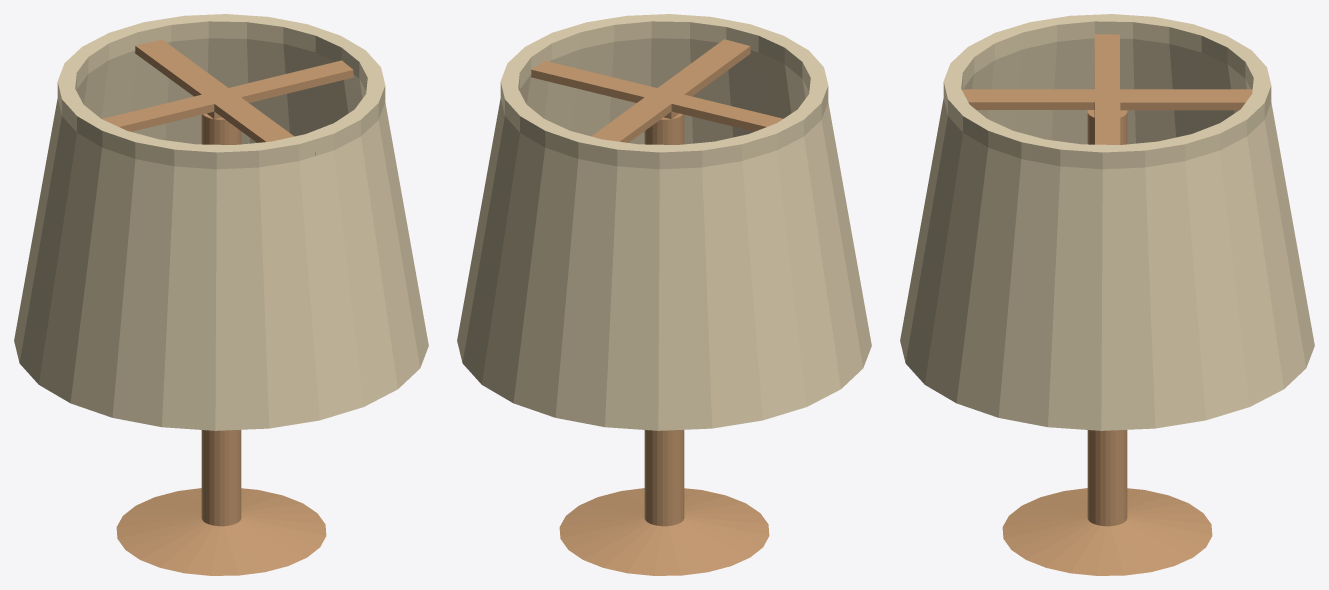
Rendered from lamp.glb.
3 views of the same model, side by side, from view 1: azimuth 30°, elevation 25°; view 2: azimuth 150°, elevation 25°; view 3: azimuth 270°, elevation 25° (orthographic).
Parts seen in each view (by area): view 1: Node63, Node62, Node96, Node66, Node56, Node51, Node64, Node86, Node126, Node112, Node55, Node90 (+44 smaller); view 2: Node57, Node82, Node83, Node61, Node89, Node60, Node90, Node68, Node126, Node112, Node86, Node67 (+45 smaller); view 3: Node98, Node97, Node93, Node78, Node84, Node65, Node67, Node55, Node126, Node112, Node68, Node64 (+44 smaller).
Boxes of the visible parts, left/top/right/bottom form: Node63: left=215, top=167, right=269, bottom=430; Node62: left=162, top=166, right=216, bottom=430; Node96: left=259, top=161, right=319, bottom=428; Node66: left=112, top=159, right=174, bottom=427; Node56: left=299, top=150, right=363, bottom=420; Node51: left=70, top=147, right=135, bottom=417; Node64: left=334, top=136, right=397, bottom=406; Node86: left=39, top=133, right=101, bottom=403; Node126: left=57, top=14, right=385, bottom=152; Node112: left=102, top=39, right=352, bottom=141; Node55: left=361, top=120, right=420, bottom=388; Node90: left=19, top=116, right=76, bottom=384; Node57: left=658, top=167, right=712, bottom=430; Node82: left=605, top=166, right=659, bottom=430; Node83: left=702, top=161, right=762, bottom=428; Node61: left=555, top=159, right=617, bottom=427; Node89: left=742, top=150, right=806, bottom=420; Node60: left=513, top=147, right=578, bottom=417; Node90: left=777, top=136, right=840, bottom=406; Node68: left=482, top=133, right=544, bottom=403; Node126: left=500, top=14, right=828, bottom=152; Node112: left=532, top=39, right=783, bottom=141; Node86: left=804, top=120, right=863, bottom=388; Node67: left=462, top=116, right=519, bottom=384; Node98: left=1101, top=167, right=1155, bottom=430; Node97: left=1048, top=166, right=1102, bottom=430; Node93: left=1145, top=161, right=1205, bottom=428; Node78: left=998, top=159, right=1060, bottom=427; Node84: left=1185, top=150, right=1249, bottom=420; Node65: left=956, top=147, right=1021, bottom=417; Node67: left=1220, top=136, right=1283, bottom=406; Node55: left=925, top=133, right=987, bottom=403; Node126: left=943, top=14, right=1271, bottom=152; Node112: left=962, top=34, right=1252, bottom=144; Node68: left=1247, top=120, right=1306, bottom=388; Node64: left=905, top=116, right=962, bottom=384.
Bounding box in the file's own units: 377 × 450 × 377.
